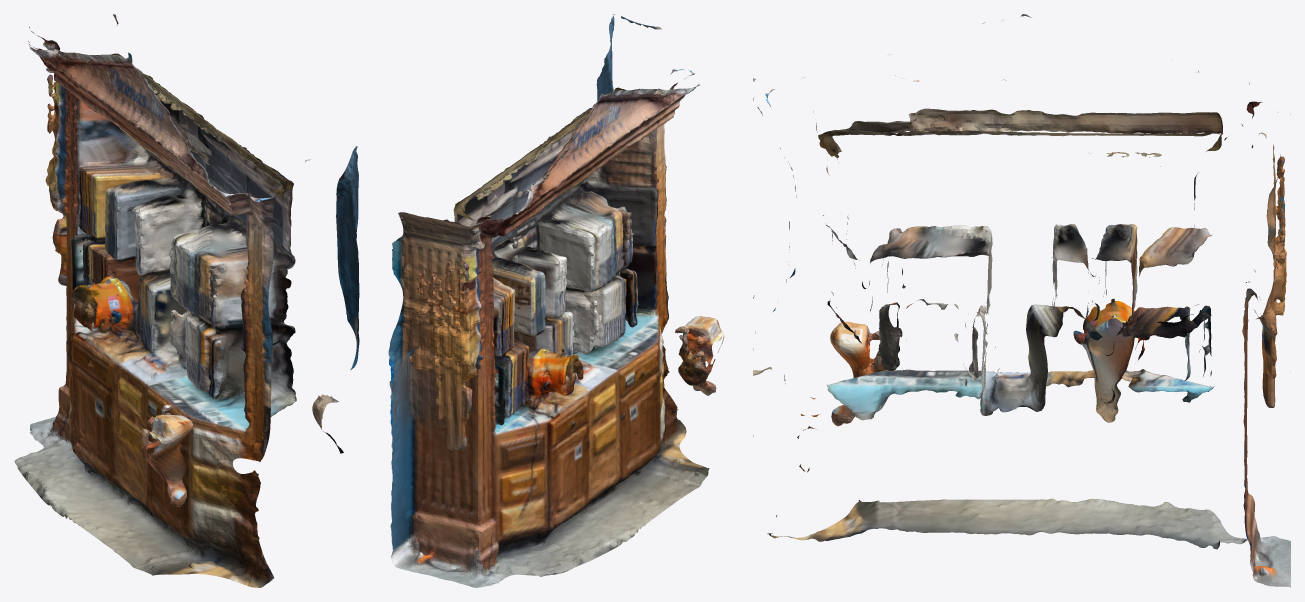
File: bookshelf18.glb
3 renders of one model, left to right at view 1: azimuth 30°, elevation 25°; view 2: azimuth 150°, elevation 25°; view 3: azimuth 270°, elevation 25°, orthographic. The views are drawn at different scales.
Bounding box in the file's own units: 1.04 × 2.72 × 2.56.
1 material, 1 textured.
